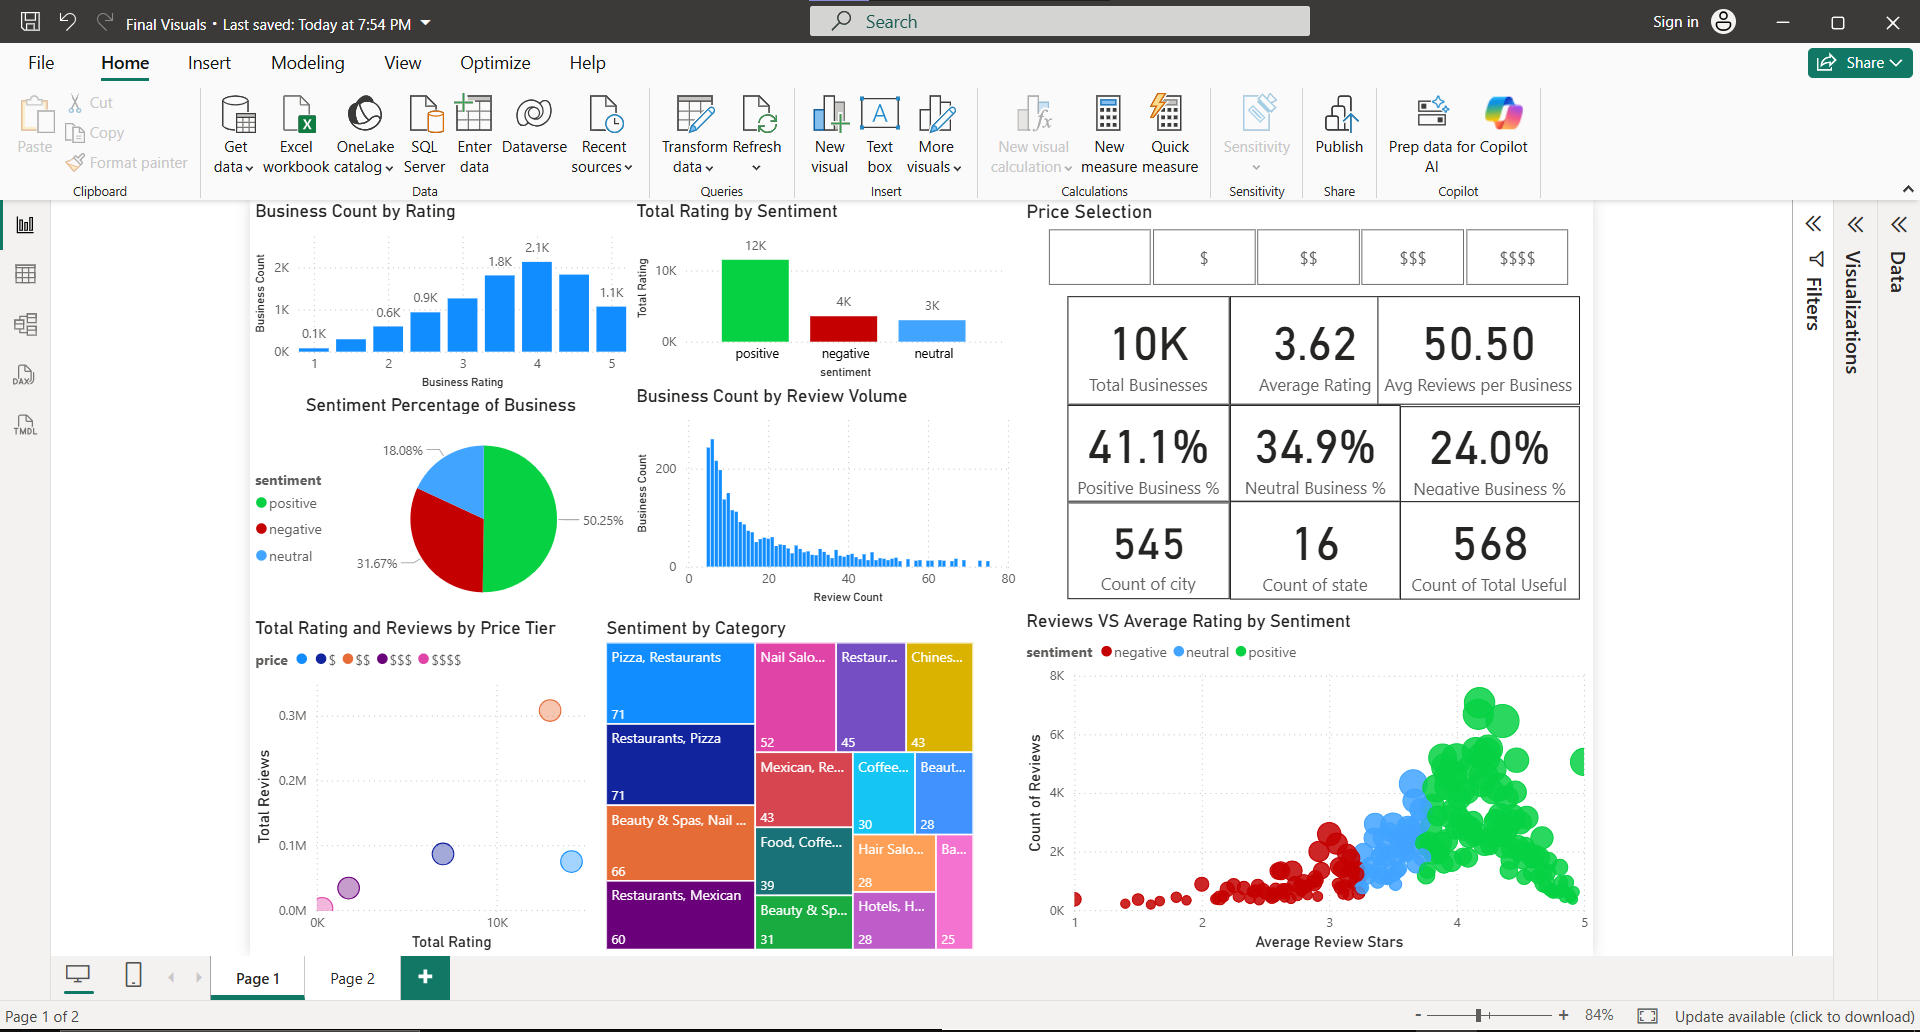

What the dashboard file says about the page in this screenshot:
{"tool":"powerbi","page":{"name":"Page 1","canvas":[1280,720],"ordinal":0},"visuals":[{"type":"columnChart","title":"Business Count by Rating","fields":{"Category":["yelp_10k_sample_10000_20251216_003532.business_rating"],"Y":["CountNonNull(yelp_10k_sample_10000_20251216_003532.business_id)"]},"box":[0,0,363.5,184.4],"z":0},{"type":"pieChart","title":"Sentiment Percentage of Business","fields":{"Category":["yelp_10k_sample_10000_20251216_003532.sentiment"],"Y":["CountNonNull(yelp_10k_sample_10000_20251216_003532.business_id)"]},"box":[0,184.4,363.5,219.7],"z":1000},{"type":"columnChart","title":"Total Rating by Sentiment","fields":{"Category":["yelp_10k_sample_10000_20251216_003532.sentiment"],"Y":["Sum(yelp_10k_sample_10000_20251216_003532.business_rating)"]},"box":[363.5,0,360.8,175],"z":2000},{"type":"scatterChart","title":"Total Rating and Reviews by Price Tier","fields":{"X":["Sum(yelp_10k_sample_10000_20251216_003532.business_rating)"],"Y":["Sum(yelp_10k_sample_10000_20251216_003532.review_count)"],"Series":["yelp_10k_sample_10000_20251216_003532.price"]},"box":[0,397.3,335.5,322.3],"z":3000},{"type":"columnChart","title":"Business Count by Review Volume","fields":{"Y":["CountNonNull(yelp_10k_sample_10000_20251216_003532.sentiment)"],"Category":["yelp_10k_sample_10000_20251216_003532.review_count"],"Series":["yelp_10k_sample_10000_20251216_003532.sentiment"]},"box":[363.5,176.3,371.6,212.9],"z":4000},{"type":"treemap","title":"Sentiment by Category","fields":{"Group":["yelp_10k_sample_10000_20251216_003532.categories"],"Values":["CountNonNull(yelp_10k_sample_10000_20251216_003532.business_id)"]},"box":[335,397.4,359.4,321.4],"z":5000},{"type":"card","fields":{"Values":["yelp_10k_sample_10000_20251216_003532.Total Businesses"]},"box":[778.5,91.7,154.6,103.1],"z":6000},{"type":"card","fields":{"Values":["yelp_10k_sample_10000_20251216_003532.Average Rating"]},"box":[933.1,91.7,162.7,103.1],"z":7000},{"type":"card","fields":{"Values":["yelp_10k_sample_10000_20251216_003532.Avg Reviews per Business"]},"box":[1074.1,91.7,192.6,103.1],"z":8000},{"type":"card","fields":{"Values":["Count(yelp_10k_sample_10000_20251216_003532.city)"]},"box":[778.5,288.3,154.6,92.2],"z":9000},{"type":"card","fields":{"Values":["yelp_10k_sample_10000_20251216_003532.Positive Review %"]},"box":[778.5,194.8,154.6,92.2],"z":10000},{"type":"card","fields":{"Values":["yelp_10k_sample_10000_20251216_003532.Neutral Business %"]},"box":[933.1,194.8,162.7,92.2],"z":11000},{"type":"card","fields":{"Values":["yelp_10k_sample_10000_20251216_003532.Negative Business %"]},"box":[1095.8,196.1,170.9,90.9],"z":12000},{"type":"card","fields":{"Values":["Count(yelp_10k_sample_10000_20251216_003532.state)"]},"box":[933.6,286.7,162.7,93.6],"z":13000},{"type":"card","fields":{"Values":["Count(yelp_10k_sample_10000_20251216_003532.total_useful)"]},"box":[1095.8,287,170.9,93.6],"z":14000},{"type":"scatterChart","title":"Reviews VS Average Rating by Sentiment","fields":{"X":["yelp_10k_sample_10000_20251216_003532.avg_review_stars"],"Y":["Sum(yelp_10k_sample_10000_20251216_003532.review_count)"],"Series":["yelp_10k_sample_10000_20251216_003532.sentiment"],"Size":["Sum(yelp_10k_sample_10000_20251216_003532.total_useful)"]},"box":[735.1,390.6,545.2,329.6],"z":15000},{"type":"slicer","title":"Price Selection","fields":{"Values":["yelp_10k_sample_10000_20251216_003532.price"]},"box":[735.1,0,545.2,88.2],"z":16000}]}

Visuals, with their boxes on the page's 1280x720 design canvas (x1, y1, x2, y2). These are canvas units, not pixel positions in the 1920x1032 screenshot, which may show the page scaled, cropped or inside an application window:
"Business Count by Rating" columnChart: region(0, 0, 364, 184)
"Sentiment Percentage of Business" pieChart: region(0, 184, 364, 404)
"Total Rating by Sentiment" columnChart: region(364, 0, 724, 175)
"Total Rating and Reviews by Price Tier" scatterChart: region(0, 397, 336, 720)
"Business Count by Review Volume" columnChart: region(364, 176, 735, 389)
"Sentiment by Category" treemap: region(335, 397, 694, 719)
card - yelp_10k_sample_10000_20251216_003532.Total Businesses: region(778, 92, 933, 195)
card - yelp_10k_sample_10000_20251216_003532.Average Rating: region(933, 92, 1096, 195)
card - yelp_10k_sample_10000_20251216_003532.Avg Reviews per Business: region(1074, 92, 1267, 195)
card - Count(yelp_10k_sample_10000_20251216_003532.city): region(778, 288, 933, 380)
card - yelp_10k_sample_10000_20251216_003532.Positive Review %: region(778, 195, 933, 287)
card - yelp_10k_sample_10000_20251216_003532.Neutral Business %: region(933, 195, 1096, 287)
card - yelp_10k_sample_10000_20251216_003532.Negative Business %: region(1096, 196, 1267, 287)
card - Count(yelp_10k_sample_10000_20251216_003532.state): region(934, 287, 1096, 380)
card - Count(yelp_10k_sample_10000_20251216_003532.total_useful): region(1096, 287, 1267, 381)
"Reviews VS Average Rating by Sentiment" scatterChart: region(735, 391, 1280, 720)
"Price Selection" slicer: region(735, 0, 1280, 88)
